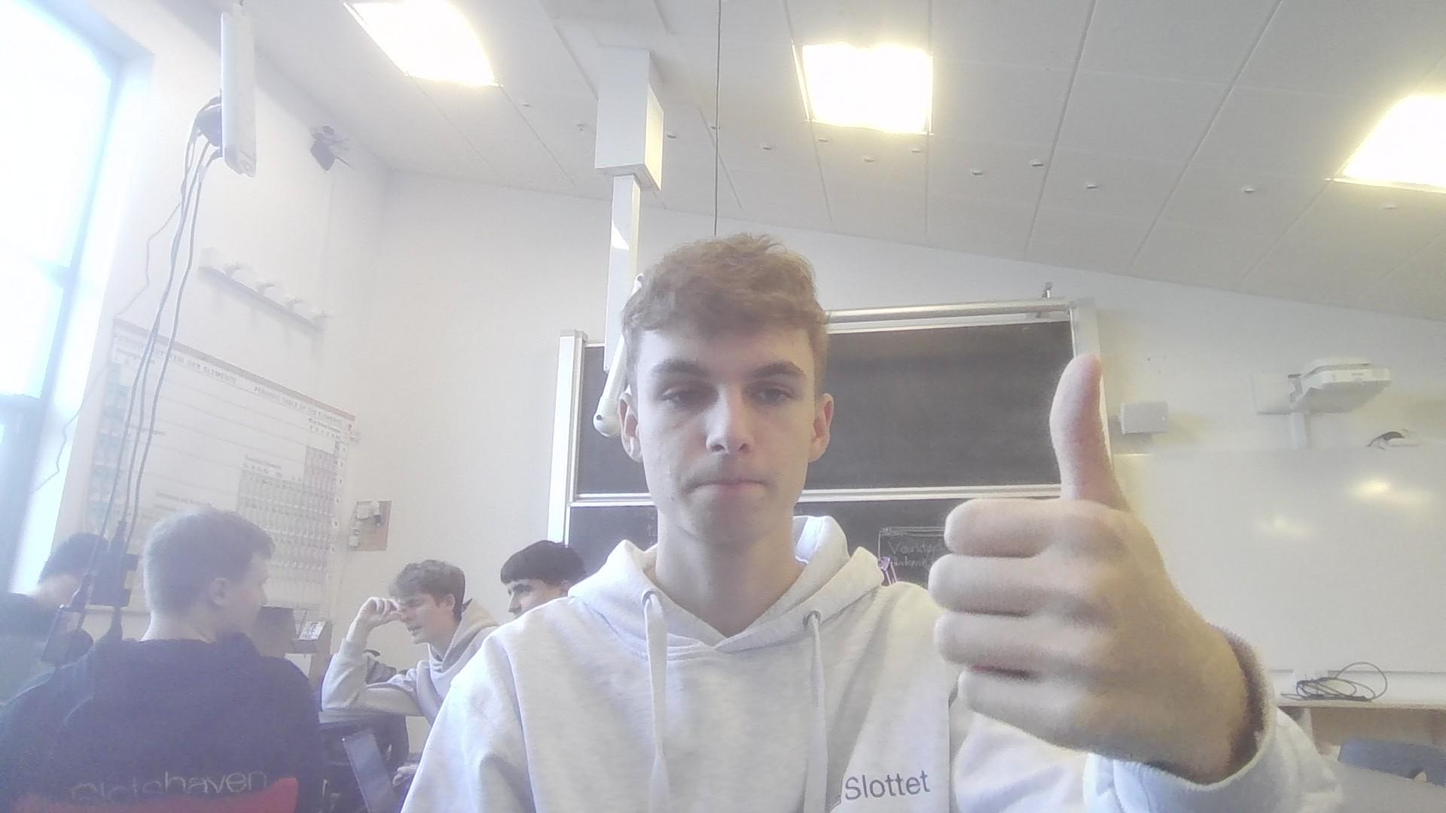thumbs up: (928, 347, 1209, 758)
